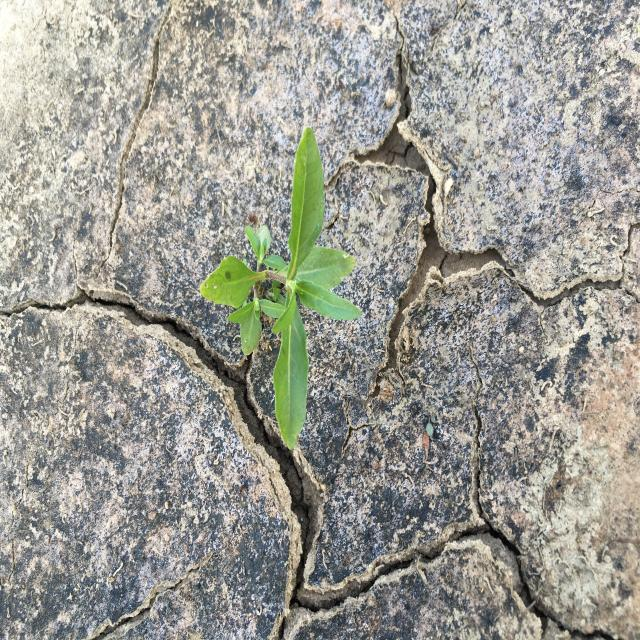Eclipta: (198, 127, 364, 452)
